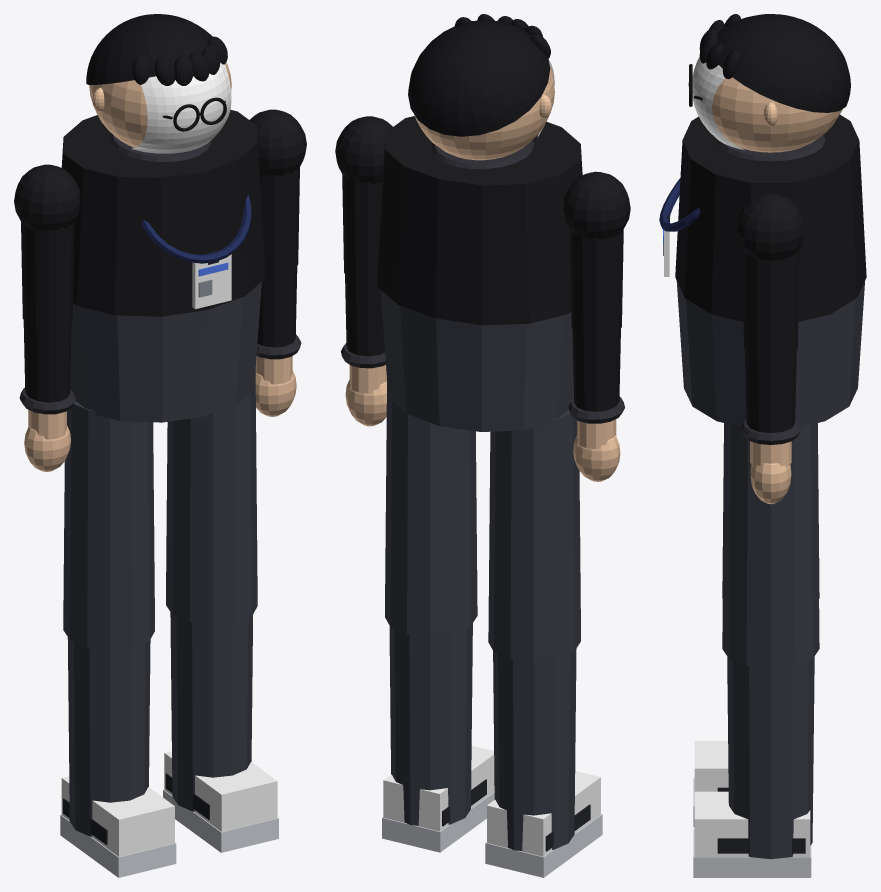
Rendered from gpt.obj.
3 views of the same model, side by side, from view 1: azimuth 30°, elevation 25°; view 2: azimuth 150°, elevation 25°; view 3: azimuth 270°, elevation 25° (orthographic).
Parts seen in each view (by area): view 1: mesh_12, mesh_1, mesh_11, mesh_6, mesh_2, mesh_7, mesh_35, mesh_36, mesh_20, mesh_3, mesh_8, mesh_26 (+16 smaller); view 2: mesh_12, mesh_1, mesh_11, mesh_6, mesh_2, mesh_7, mesh_36, mesh_20, mesh_26, mesh_19, mesh_21, mesh_32 (+13 smaller); view 3: mesh_12, mesh_6, mesh_7, mesh_11, mesh_36, mesh_26, mesh_32, mesh_25, mesh_27, mesh_8, mesh_9, mesh_3 (+7 smaller).
Boxes of the visible parts, box(x1,y1,x2,y2) form: mesh_12: box(61, 109, 265, 316); mesh_1: box(63, 401, 154, 650); mesh_11: box(70, 282, 261, 422); mesh_6: box(166, 371, 257, 625); mesh_2: box(67, 637, 150, 836); mesh_7: box(170, 612, 253, 811); mesh_35: box(131, 62, 231, 153); mesh_36: box(86, 14, 212, 84); mesh_20: box(21, 221, 74, 329); mesh_3: box(61, 776, 174, 856); mesh_8: box(164, 751, 277, 831); mesh_26: box(260, 167, 299, 274); mesh_12: box(377, 116, 582, 325); mesh_1: box(488, 410, 580, 661); mesh_11: box(380, 290, 573, 431); mesh_6: box(385, 380, 477, 636); mesh_2: box(493, 648, 576, 850); mesh_7: box(389, 623, 472, 825); mesh_36: box(408, 20, 550, 136); mesh_20: box(569, 229, 623, 338); mesh_26: box(342, 175, 382, 282); mesh_19: box(563, 171, 630, 239); mesh_21: box(572, 329, 620, 411); mesh_32: box(414, 63, 554, 160); mesh_12: box(675, 114, 866, 321); mesh_6: box(722, 423, 819, 668); mesh_7: box(727, 656, 814, 859); mesh_11: box(676, 281, 864, 426); mesh_36: box(717, 14, 850, 112); mesh_26: box(742, 249, 799, 359); mesh_32: box(712, 77, 842, 152); mesh_25: box(737, 193, 804, 260); mesh_27: box(745, 351, 796, 432); mesh_8: box(694, 791, 810, 856); mesh_9: box(693, 829, 811, 877); mesh_3: box(694, 741, 728, 791).
Bounding box in the file's own units: 0.6378 × 1.74 × 0.399.
